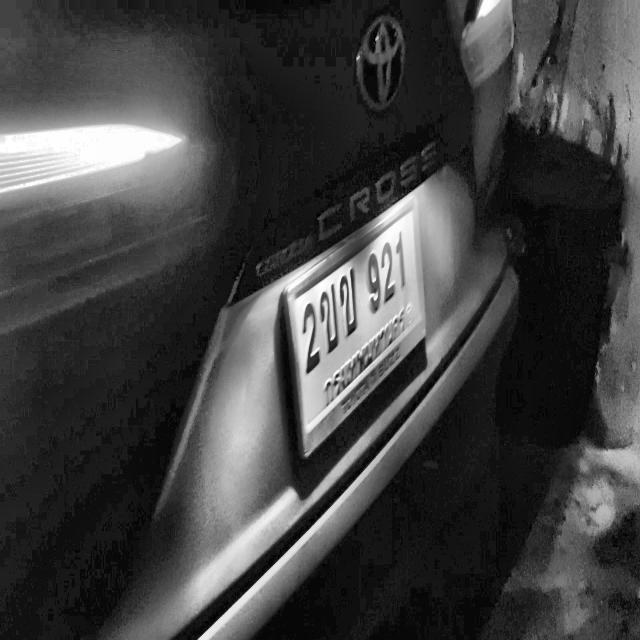license-plate: (282, 190, 425, 470)
